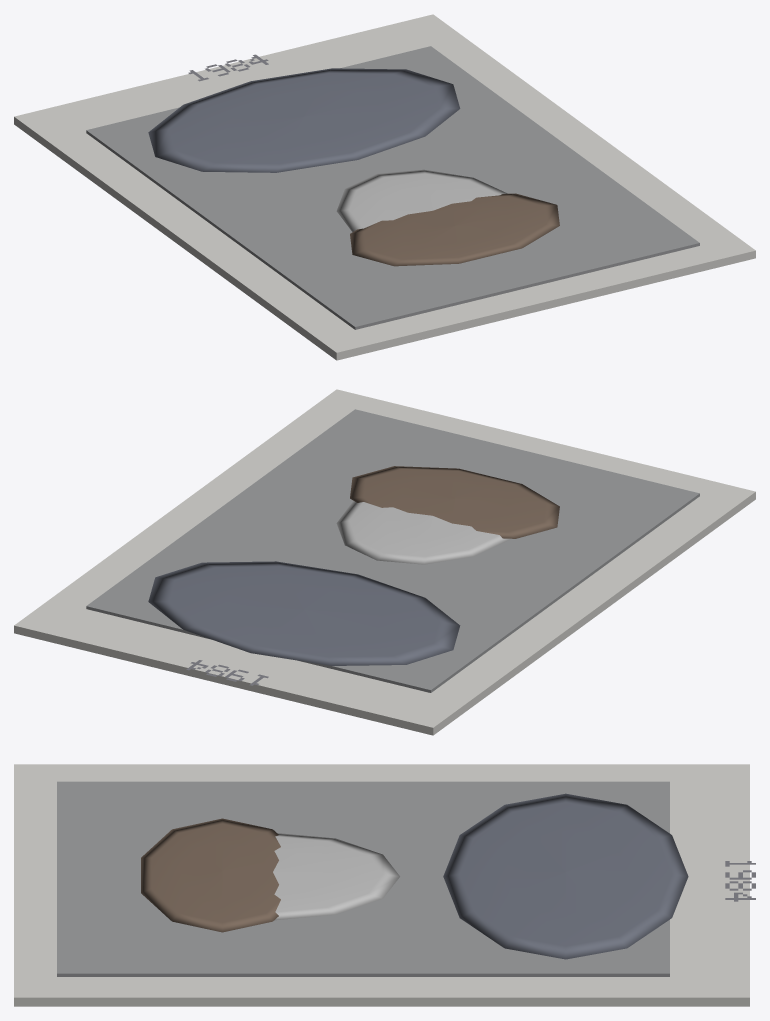
File: anne_photo_a.glb
The picture shows the model from 3 angles, top to bottom: view 1: azimuth 30°, elevation 25°; view 2: azimuth 150°, elevation 25°; view 3: azimuth 270°, elevation 25°; orthographic projection. The views are drawn at different scales.
Parts seen in each view (by area): view 1: body; view 2: body; view 3: body.
Boxes of the visible parts, x1=… form: body: x1=14, y1=14, x2=755, y2=360; body: x1=14, y1=389, x2=755, y2=735; body: x1=14, y1=764, x2=755, y2=1006.
Size of the model in its own units: 0.09 by 0.0034 by 0.121.
